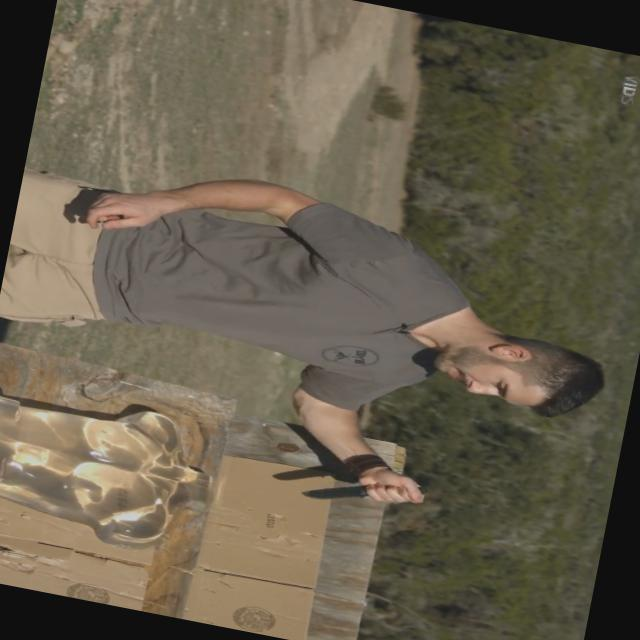knife: (288, 453, 436, 525)
